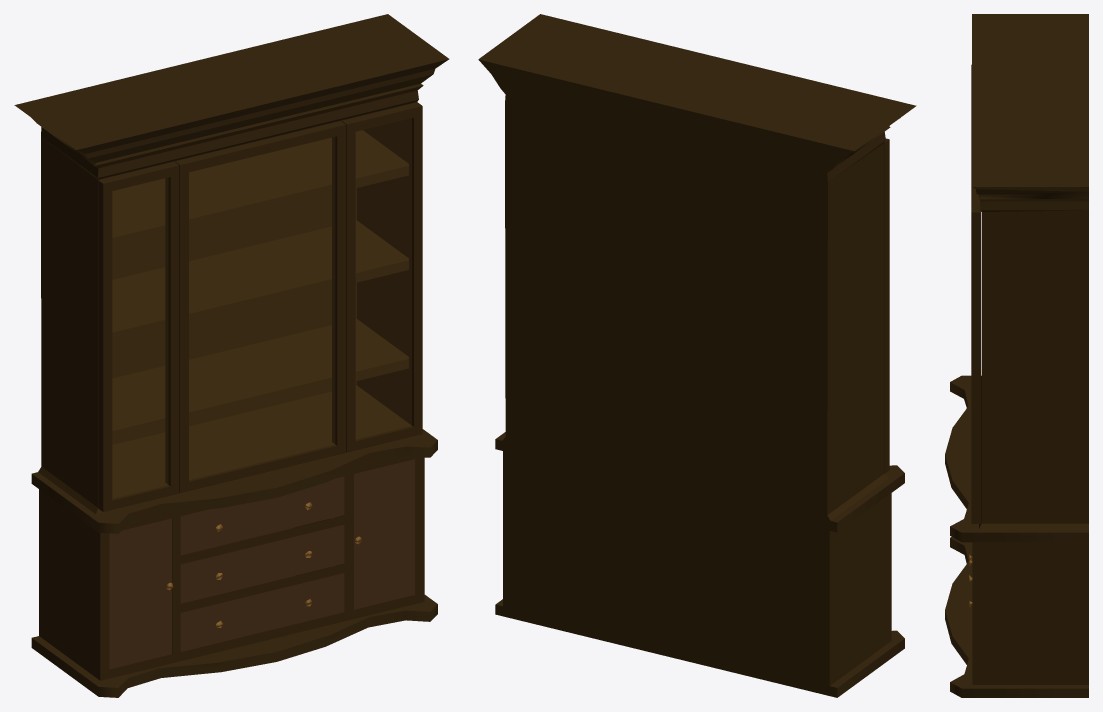
The model's file is c9c43ba3-9538-4962-aae9-1dcdd655653f.glb.
3 renders of one model, left to right at view 1: azimuth 30°, elevation 25°; view 2: azimuth 150°, elevation 25°; view 3: azimuth 270°, elevation 25°, orthographic. The views are drawn at different scales.
Visible parts, largest first — view 1: AntiqueChinaCabinet; view 2: AntiqueChinaCabinet; view 3: AntiqueChinaCabinet.
Boxes of the visible parts, x1=… form: AntiqueChinaCabinet: x1=14, y1=14, x2=449, y2=697; AntiqueChinaCabinet: x1=478, y1=14, x2=916, y2=697; AntiqueChinaCabinet: x1=945, y1=14, x2=1088, y2=697.
Size of what is drawn, in the model's own units: 1.67 by 2.34 by 0.588.
3 materials, 3 textured.
